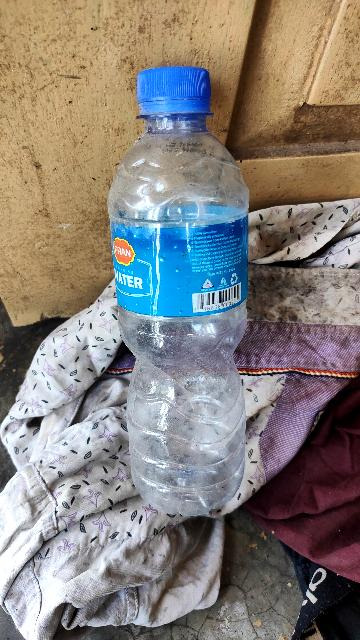bottle: (102, 50, 265, 519)
